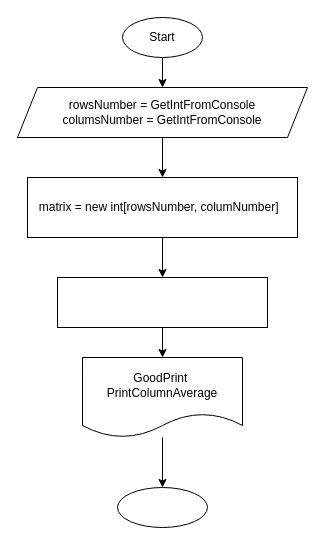
The diagram is 325 pixels wide and 545 high, and some of its shapes have lost their labels. Each missing label, with the centre of its shape:
"end" goes at point (162, 507).
"FillArray[matrix, new Random]" goes at point (162, 302).
